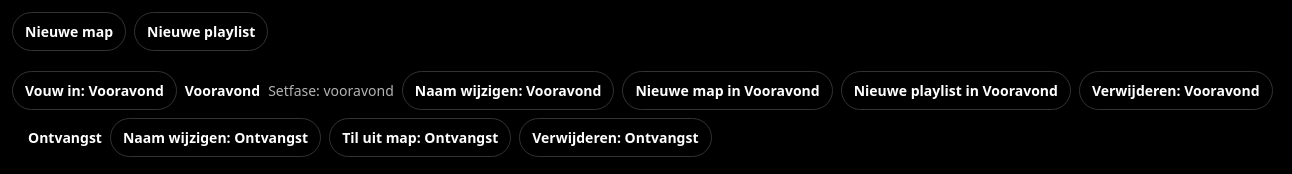
it: Tree › folds a folder closed and open again, reporting it on the treeitem too
The width and height of the screenshot is (1292, 174).
Click the button "Vouw in: Vooravond".
click(94, 90)  # box left=12, top=71, right=177, bottom=110
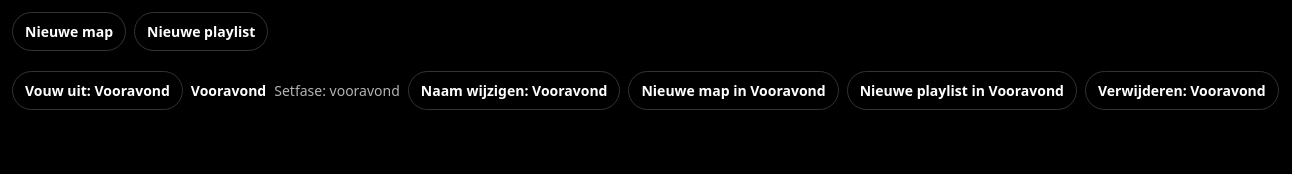
Result: the list item "Vooravond" is collapsed at left=12, top=67, right=1291, bottom=114
Result: the text "Ontvangst" is gone
Click the button "Vouw uit: Vooravond".
click(97, 90)  # box left=12, top=71, right=183, bottom=110
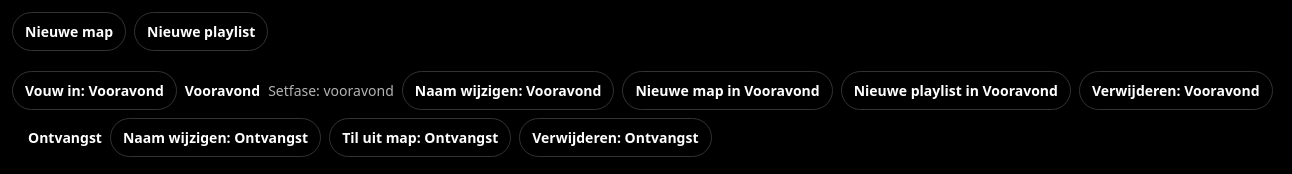
Result: the text "Ontvangst" is shown at left=28, top=127, right=102, bottom=148
